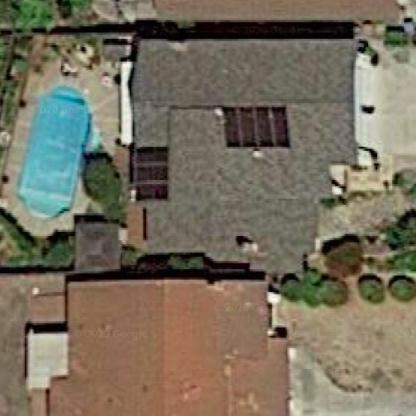solar_panel: (207, 96, 299, 156), (136, 138, 178, 211)
swimming_pool: (14, 75, 96, 223)
